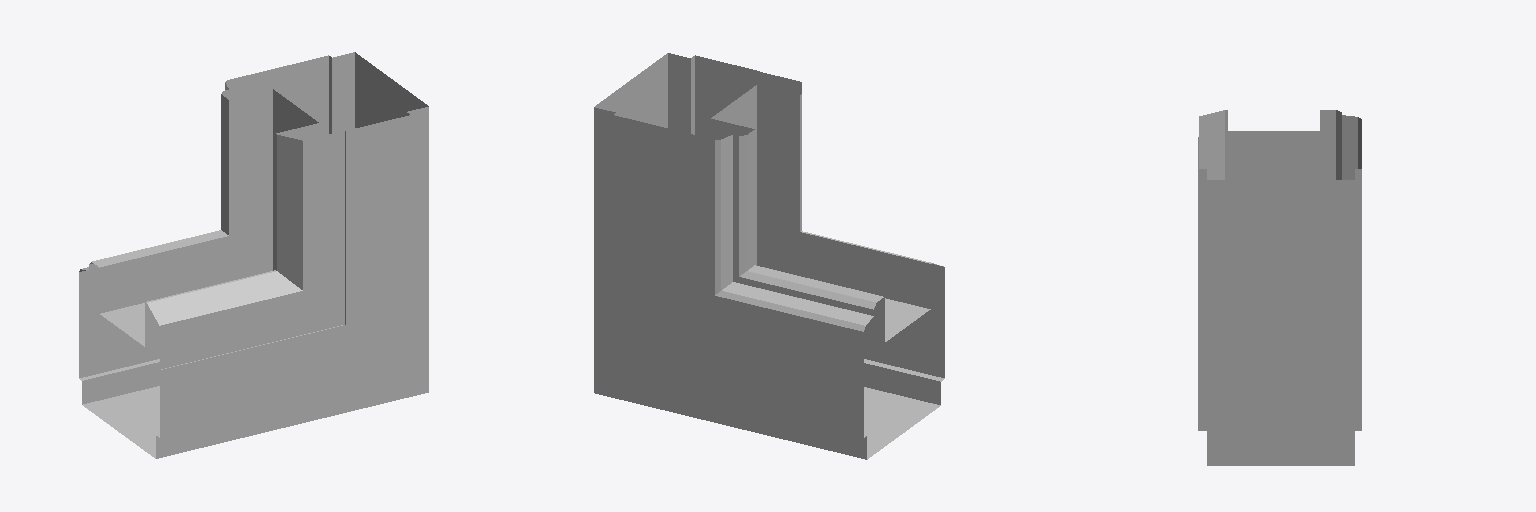
The model's file is original-23.obj.
The picture shows the model from 3 angles: view 1: azimuth 30°, elevation 25°; view 2: azimuth 150°, elevation 25°; view 3: azimuth 270°, elevation 25°; orthographic projection.
Visible parts, largest first — view 1: TF_BR1/TF_BR/mesh192/mesh192-geometry#mesh192-geometry; view 2: TF_BR1/TF_BR/mesh192/mesh192-geometry#mesh192-geometry; view 3: TF_BR1/TF_BR/mesh192/mesh192-geometry#mesh192-geometry.
Part boxes in pixels (x1,y1,x2,y2): TF_BR1/TF_BR/mesh192/mesh192-geometry#mesh192-geometry: (79, 52, 428, 458); TF_BR1/TF_BR/mesh192/mesh192-geometry#mesh192-geometry: (594, 53, 944, 459); TF_BR1/TF_BR/mesh192/mesh192-geometry#mesh192-geometry: (1198, 110, 1361, 465).
Bounding box in the file's own units: 0.0978 × 0.0978 × 0.0505.